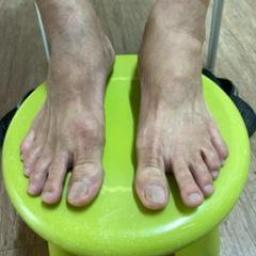Dorsal View -Both Feet-: (2, 16, 252, 235)
